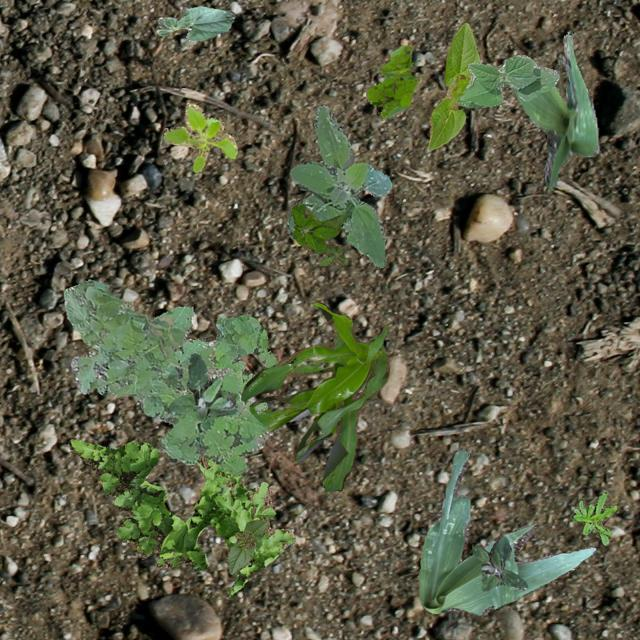crop: (418, 450, 594, 616), (240, 300, 388, 490), (512, 29, 598, 188), (428, 22, 480, 148), (456, 55, 558, 106), (156, 5, 234, 40), (226, 518, 268, 574)
weed: (62, 278, 270, 474), (66, 438, 294, 594), (286, 104, 390, 266), (212, 314, 276, 410), (162, 102, 236, 172), (168, 352, 238, 421), (366, 44, 416, 120), (290, 202, 348, 264), (471, 534, 526, 590), (570, 492, 616, 544)
